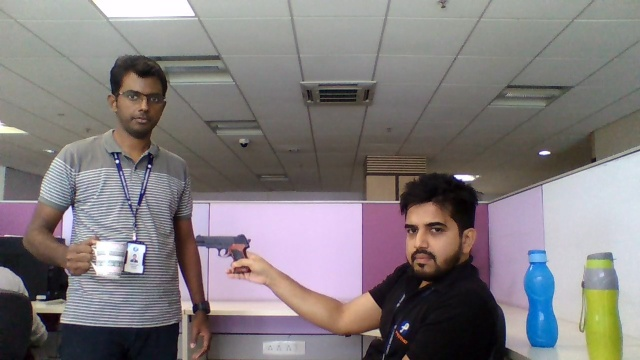gun: (196, 230, 251, 256)
